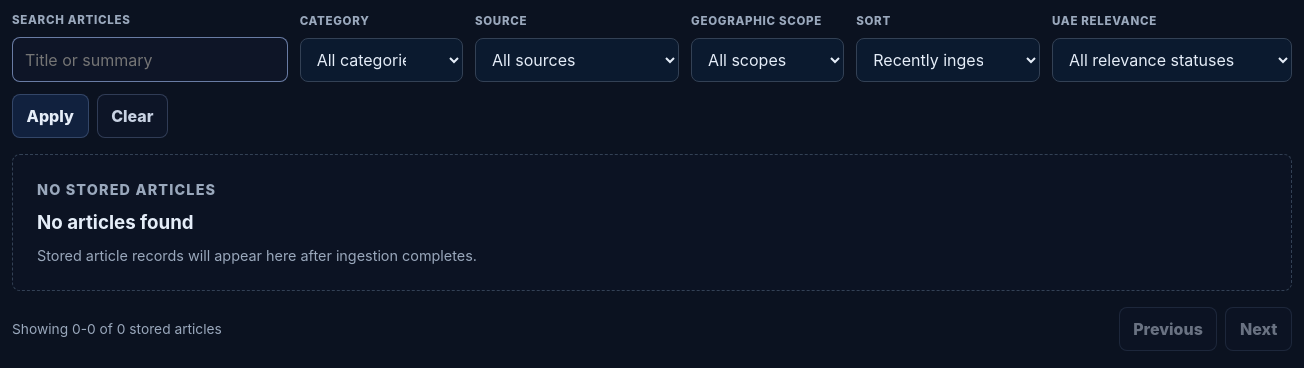
Scenario: LatestArticlesFeed › distinguishes no stored articles from a filtered empty response
The width and height of the screenshot is (1304, 368).
Expected: the heading "No articles found" is shown, [37,211,194,234]
Select "Cyber news" in the dropdown labelled "Category": (381,60) [300,38,463,82]
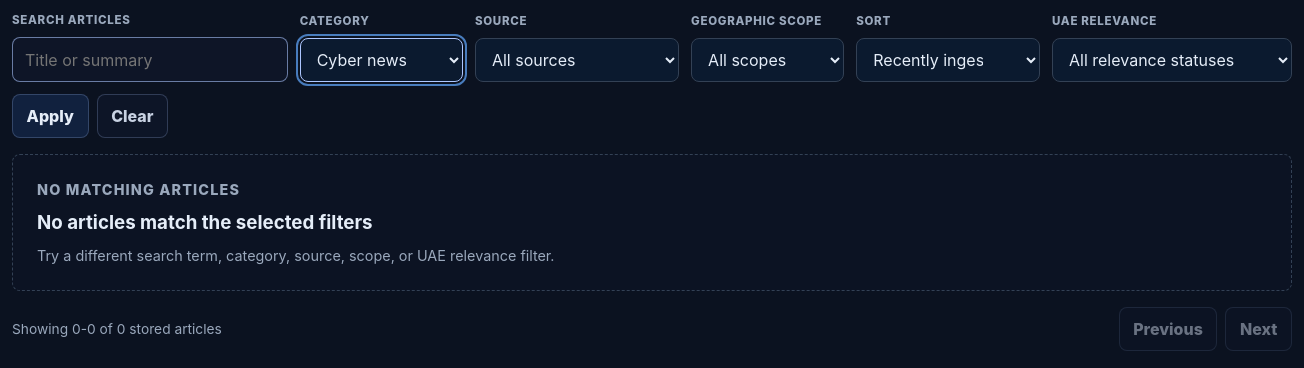
Result: the heading "No articles match the selected filters" is shown at [37,211,373,234]
